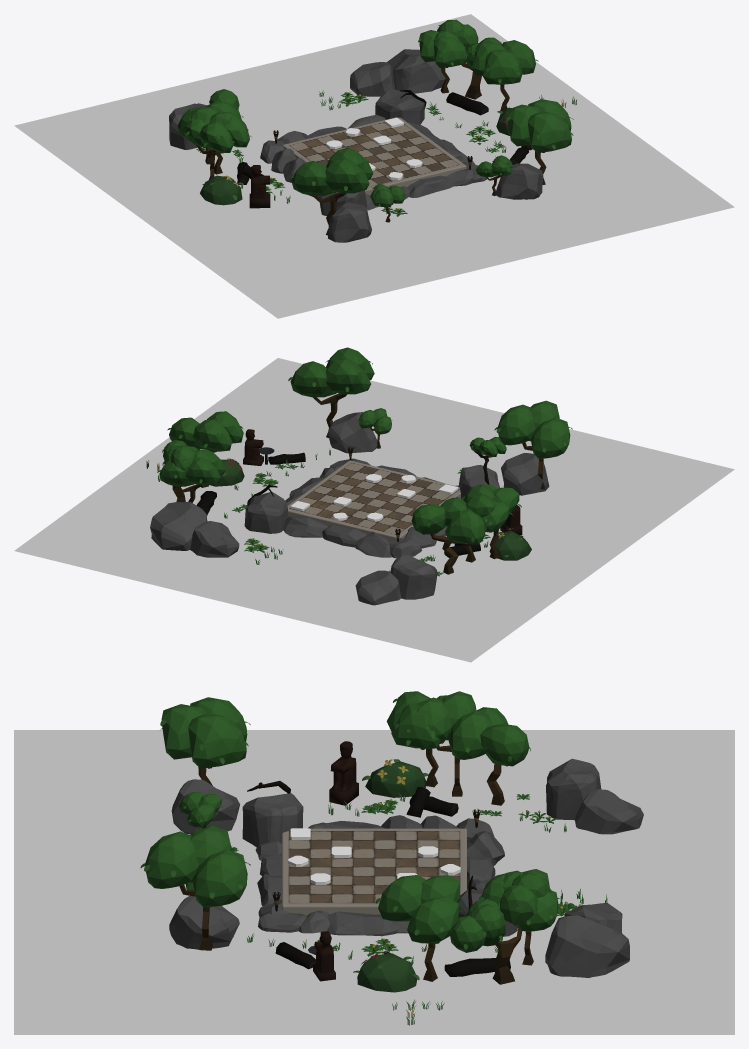
The model's file is CLEAN TAYOG STANDARD STAGE.fbx.
The picture shows the model from 3 angles, top to bottom: view 1: azimuth 30°, elevation 25°; view 2: azimuth 150°, elevation 25°; view 3: azimuth 270°, elevation 25°; orthographic projection. The views are drawn at different scales.
Visible parts, largest first — view 1: GROUND, TREES, ROCKS, STANDARD BOARD, ENVIRONMENT PROPS, STANDARD PIECES.001; view 2: GROUND, TREES, ROCKS, STANDARD BOARD, ENVIRONMENT PROPS, STANDARD PIECES.001, STANDARD PIECES; view 3: GROUND, TREES, ROCKS, STANDARD BOARD, ENVIRONMENT PROPS, STANDARD PIECES.
Part boxes in pixels (x1,y1,x2,y2): GROUND: (14,14,734,318); TREES: (177,19,576,235); ROCKS: (169,49,543,242); STANDARD BOARD: (282,117,466,195); ENVIRONMENT PROPS: (237,90,532,208); STANDARD PIECES.001: (326,117,403,149); GROUND: (14,358,734,662); TREES: (146,347,572,576); ROCKS: (150,412,549,605); STANDARD BOARD: (287,460,460,541); ENVIRONMENT PROPS: (196,429,522,557); STANDARD PIECES.001: (290,497,383,521); STANDARD PIECES: (365,474,458,498); GROUND: (14,730,734,1034); TREES: (140,691,607,1025); ROCKS: (169,758,643,977); STANDARD BOARD: (282,828,466,915); ENVIRONMENT PROPS: (247,741,510,981); STANDARD PIECES: (288,828,351,884).
Size of the model in its own units: 7197 by 2007 by 7197.
